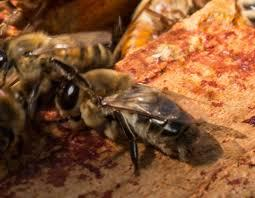worker-bee: (55, 68, 193, 169), (0, 31, 114, 93)
